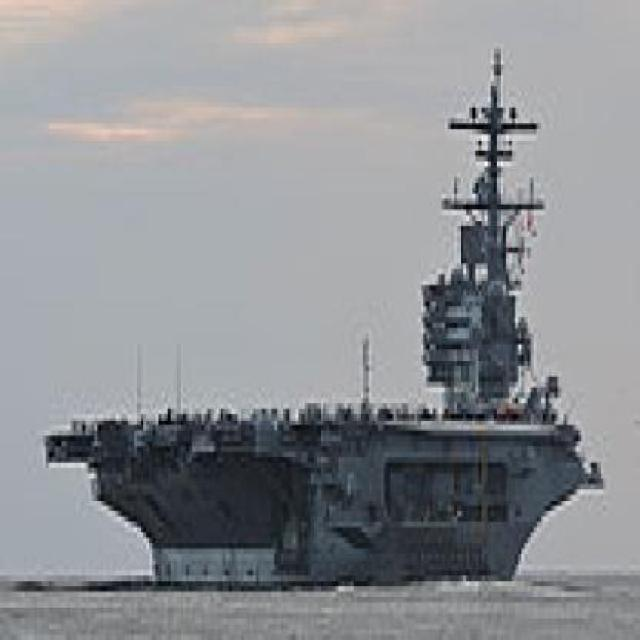warship2: (47, 33, 627, 609)
